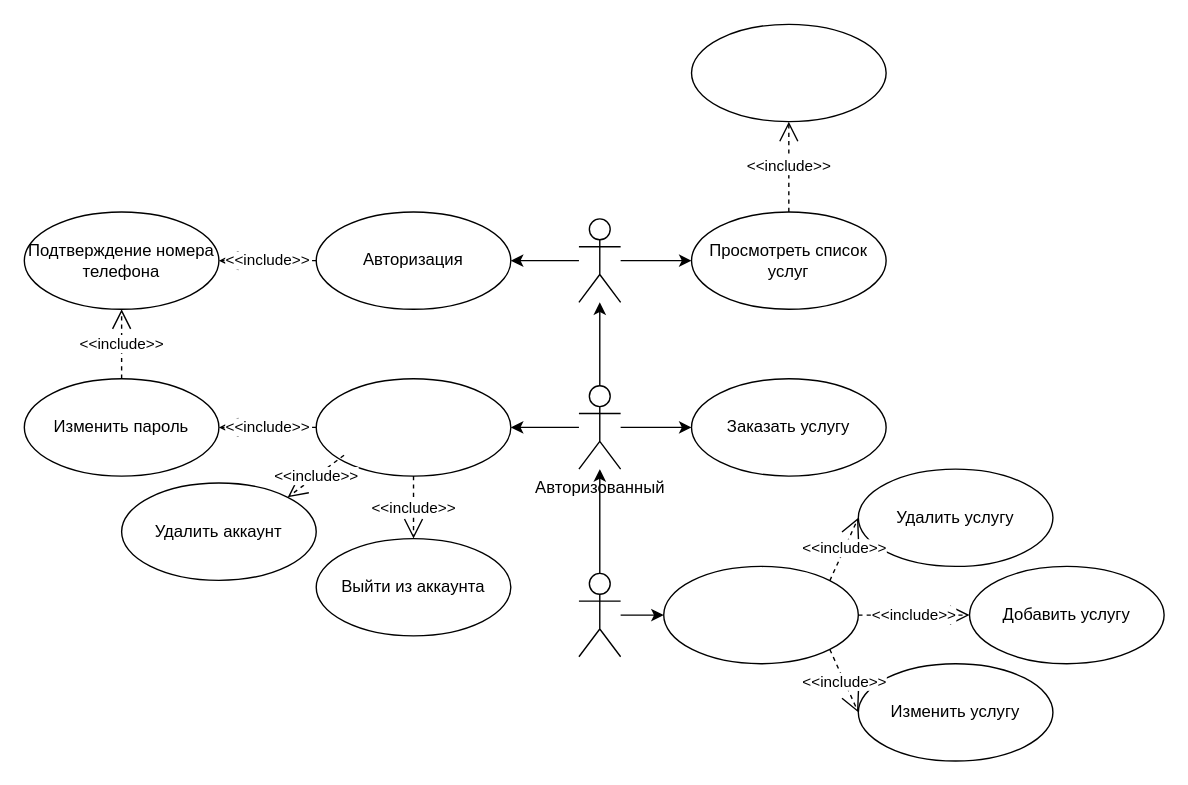
Some shapes in this 1188 by 785 pixel diagram are drawn without their labels. Here are the shapes that lost their labels. From the top down, the box of each, then its label:
(690, 23, 886, 122): Найти определенную услугу
(578, 218, 621, 302): Гость
(315, 377, 511, 476): Редактировать профиль
(578, 572, 621, 657): Менеджер
(662, 565, 858, 664): Работа с услугами
